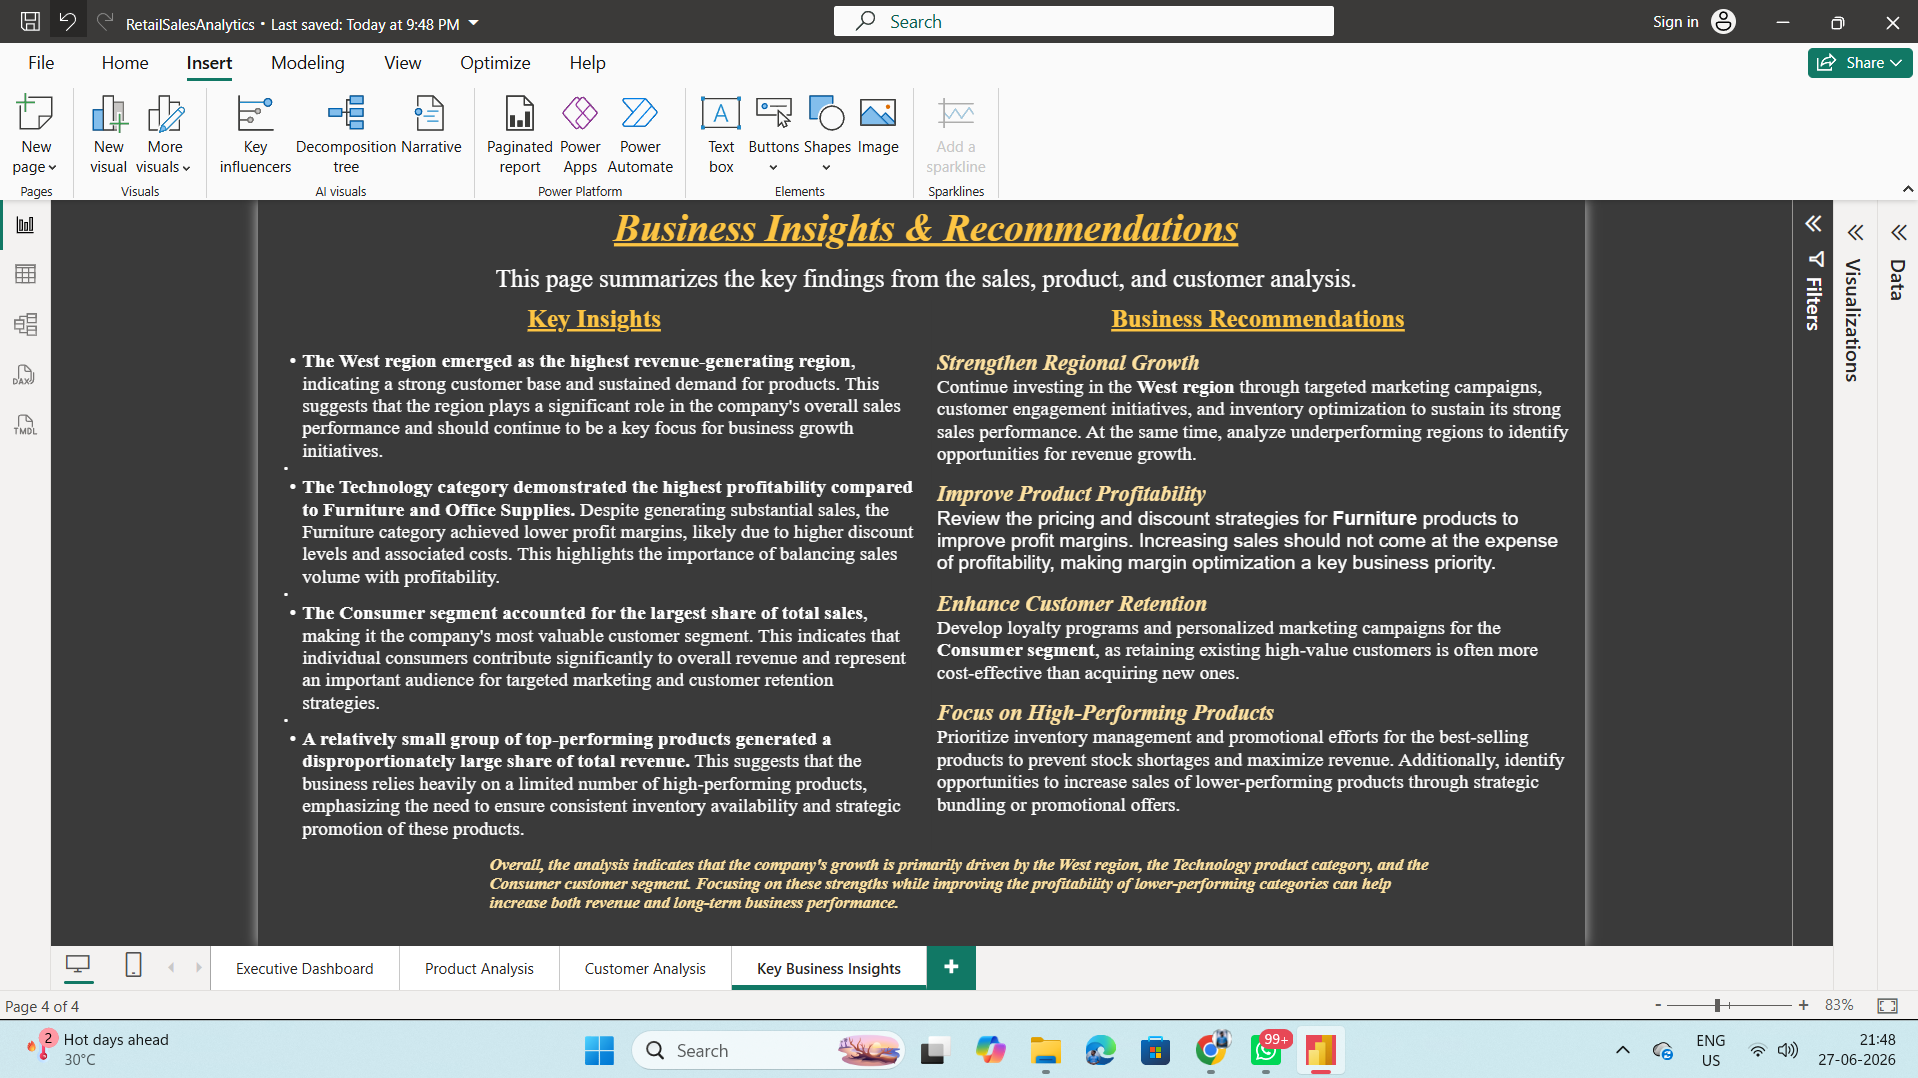

Layout of this report page (visuals, bound fields, positions):
{"tool":"powerbi","page":{"name":"Key Business Insights","canvas":[1280,720],"ordinal":3},"visuals":[{"type":"textbox","box":[9.7,0,1270.4,57.9],"z":0},{"type":"textbox","box":[9.7,57.9,1270.4,149.6],"z":1},{"type":"textbox","box":[9.7,96.5,629.8,546.5],"z":2},{"type":"textbox","box":[650.3,96.5,629.8,559.8],"z":3},{"type":"textbox","box":[218.4,627.1,916.9,92.9],"z":4}]}

Visuals, with their boxes on the page's 1280x720 design canvas (x1, y1, x2, y2). These are canvas units, not pixel positions in the 1918x1078 screenshot, which may show the page scaled, cropped or inside an application window:
textbox: box=[10, 0, 1280, 58]
textbox: box=[10, 58, 1280, 208]
textbox: box=[10, 96, 640, 643]
textbox: box=[650, 96, 1280, 656]
textbox: box=[218, 627, 1135, 720]
